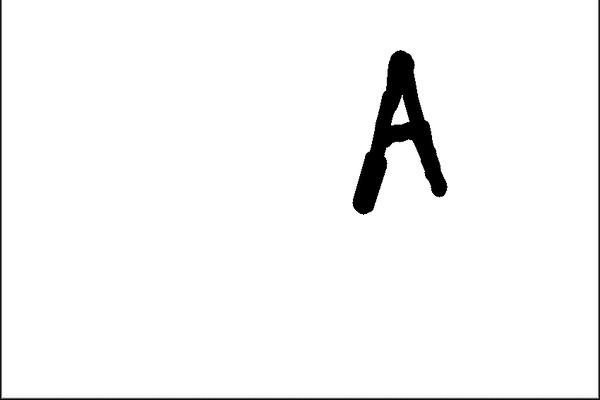A: (342, 45, 457, 224)
